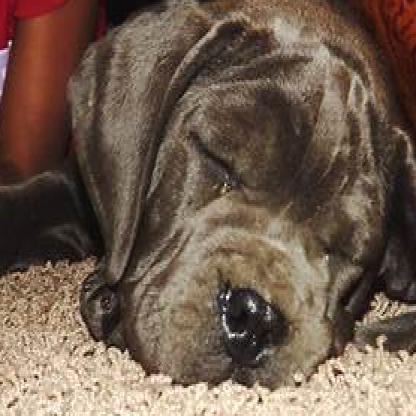dog: (64, 0, 414, 386)
